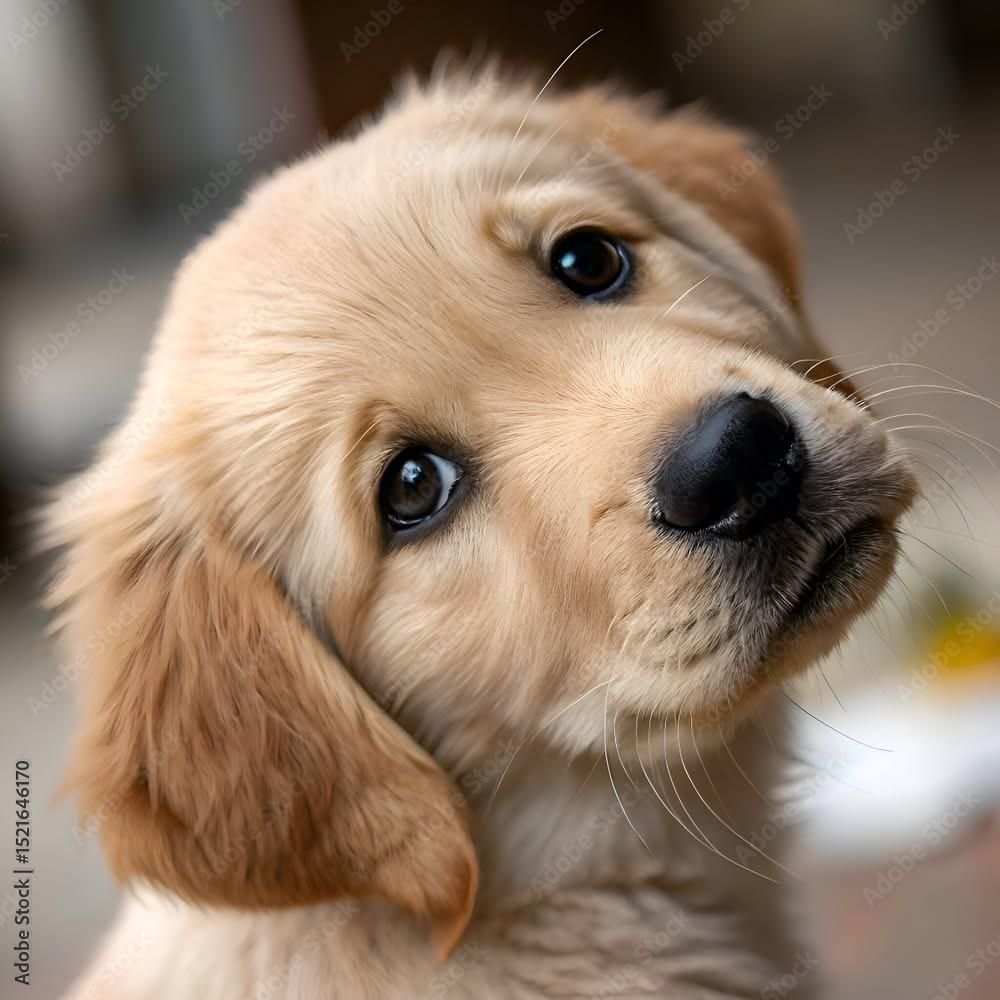puppy-dog: (30, 46, 924, 1000)
